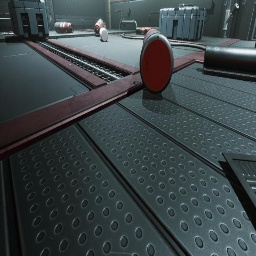0: (100, 28, 108, 42)
FireExtinguisher ]: (140, 27, 152, 35)
FirstAidBox ,: (104, 22, 106, 29)
NitrogenTank ,: (140, 28, 174, 94), (54, 22, 74, 34), (94, 19, 104, 36)
